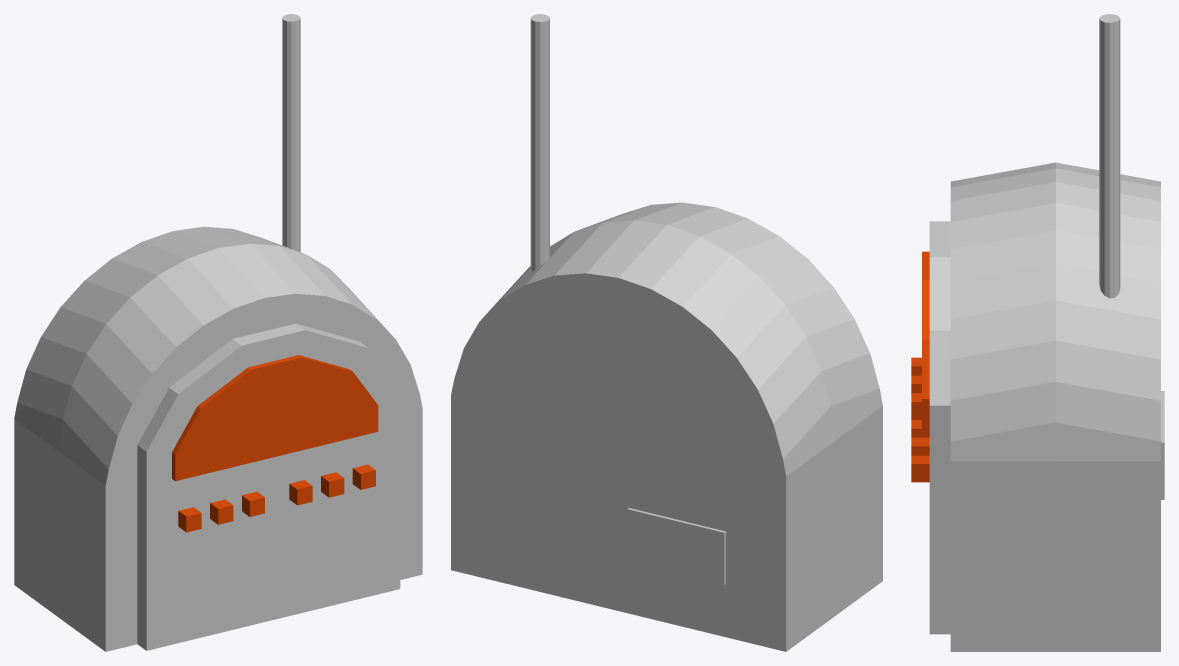
File: progradio.fbx
3 renders of one model, left to right at view 1: azimuth 30°, elevation 25°; view 2: azimuth 150°, elevation 25°; view 3: azimuth 270°, elevation 25°, orthographic. The views are drawn at different scales.
Parts seen in each view (by area): view 1: Cube.001, Cylinder, Cube, Cube.008, Cylinder.001; view 2: Cylinder, Cube, Cube.009, Cylinder.001; view 3: Cylinder, Cube, Cube.001, Cylinder.001, Cube.008, Cube.005, Cube.009.
Part boxes in pixels (x1,y1,x2,y2): Cube.001: (137, 323, 400, 650); Cylinder: (14, 226, 422, 485); Cube: (14, 409, 422, 651); Cube.008: (172, 355, 378, 481); Cylinder.001: (282, 14, 300, 251); Cylinder: (451, 202, 882, 476); Cube: (451, 395, 882, 651); Cube.009: (627, 508, 725, 585); Cylinder.001: (530, 14, 549, 271); Cylinder: (950, 162, 1160, 461); Cube: (950, 461, 1160, 651); Cube.001: (929, 221, 950, 634); Cylinder.001: (1099, 14, 1120, 298); Cube.008: (922, 251, 929, 429); Cube.005: (911, 455, 929, 482); Cube.009: (1161, 391, 1164, 499).
Bounding box in the file's own units: 200 × 314 × 121.
